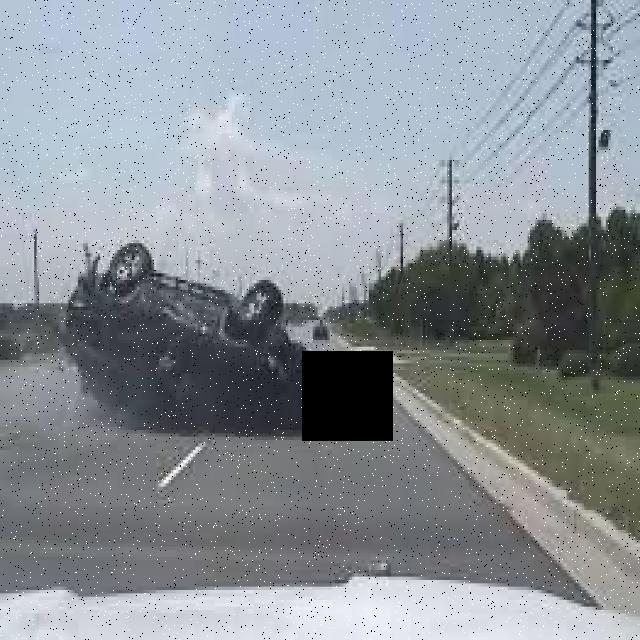severe: (62, 238, 334, 442)
